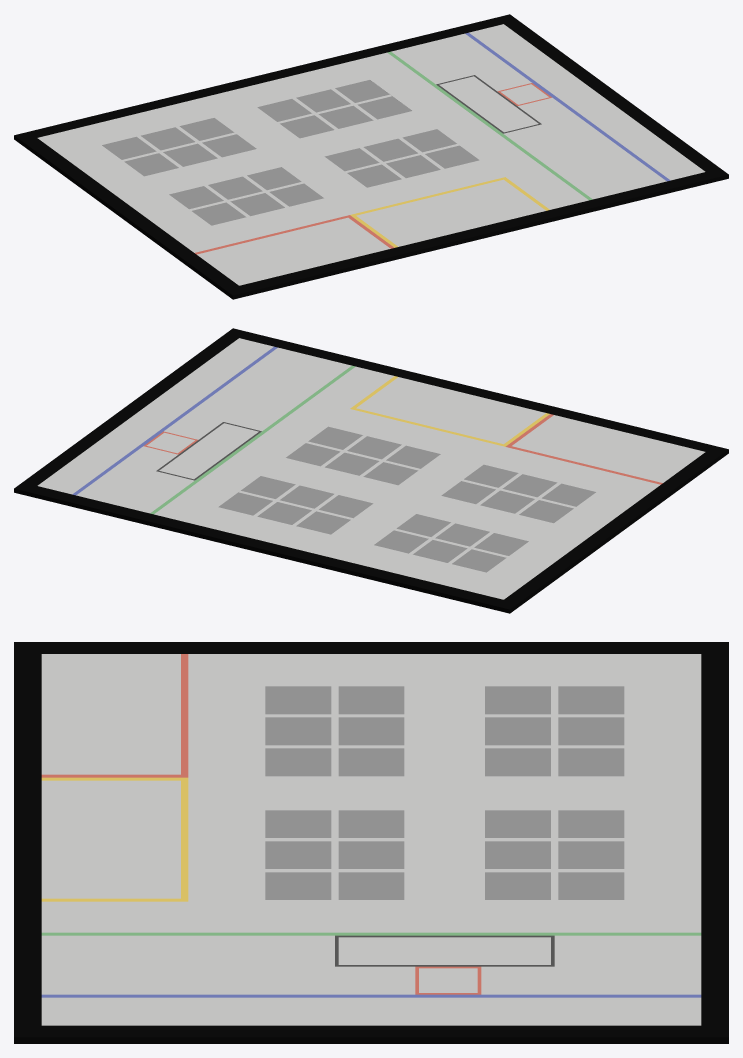
The model's file is area_warehouse.dae.
The picture shows the model from 3 angles, top to bottom: view 1: azimuth 30°, elevation 25°; view 2: azimuth 150°, elevation 25°; view 3: azimuth 270°, elevation 25°; orthographic projection. The views are drawn at different scales.
Visible parts, largest first — view 1: piso, Borda, piso (3), esteira, Body398, Zona de pick, piso (2), Zona de entrega, piso (1), faixa verde, faixa azul, faixa amarela (+31 smaller); view 2: piso, Borda, piso (3), esteira, Body398, Zona de pick, piso (2), Zona de entrega, piso (1), faixa verde, faixa azul, faixa amarela (+31 smaller); view 3: piso, Borda, piso (3), esteira, Body398, Zona de pick, piso (2), Zona de entrega, piso (1), faixa verde, faixa azul, faixa amarela (+31 smaller).
Part boxes in pixels (left/top/right/bottom): piso: left=37, top=52, right=588, bottom=252; Borda: left=14, top=14, right=728, bottom=299; piso (3): left=503, top=97, right=666, bottom=199; esteira: left=469, top=24, right=705, bottom=180; Body398: left=197, top=217, right=390, bottom=285; Zona de pick: left=356, top=179, right=545, bottom=246; piso (2): left=391, top=33, right=531, bottom=91; Zona de entrega: left=439, top=76, right=538, bottom=132; piso (1): left=282, top=156, right=366, bottom=197; faixa verde: left=387, top=51, right=592, bottom=200; faixa azul: left=465, top=32, right=670, bottom=181; faixa amarela: left=350, top=177, right=549, bottom=247; piso: left=154, top=366, right=660, bottom=599; Borda: left=14, top=328, right=728, bottom=613; piso (3): left=164, top=347, right=351, bottom=439; esteira: left=37, top=338, right=273, bottom=494; Body398: left=512, top=415, right=705, bottom=482; Zona de pick: left=356, top=377, right=545, bottom=444; piso (2): left=76, top=446, right=194, bottom=513; Zona de entrega: left=159, top=423, right=258, bottom=479; piso (1): left=399, top=454, right=483, bottom=495; faixa verde: left=150, top=365, right=355, bottom=514; faixa azul: left=72, top=346, right=277, bottom=495; faixa amarela: left=350, top=376, right=549, bottom=446; piso: left=41, top=654, right=701, bottom=932; Borda: left=14, top=642, right=728, bottom=1043; piso (3): left=41, top=935, right=415, bottom=994; esteira: left=41, top=997, right=701, bottom=1025; Body398: left=41, top=654, right=180, bottom=774; Zona de pick: left=41, top=780, right=180, bottom=898; piso (2): left=481, top=935, right=701, bottom=994; Zona de entrega: left=338, top=937, right=550, bottom=964; piso (1): left=265, top=776, right=404, bottom=810; faixa verde: left=41, top=932, right=701, bottom=935; faixa azul: left=41, top=994, right=701, bottom=997; faixa amarela: left=41, top=777, right=188, bottom=901.
Size of the model in its own units: 12.76 by 9.76 by 0.1.
